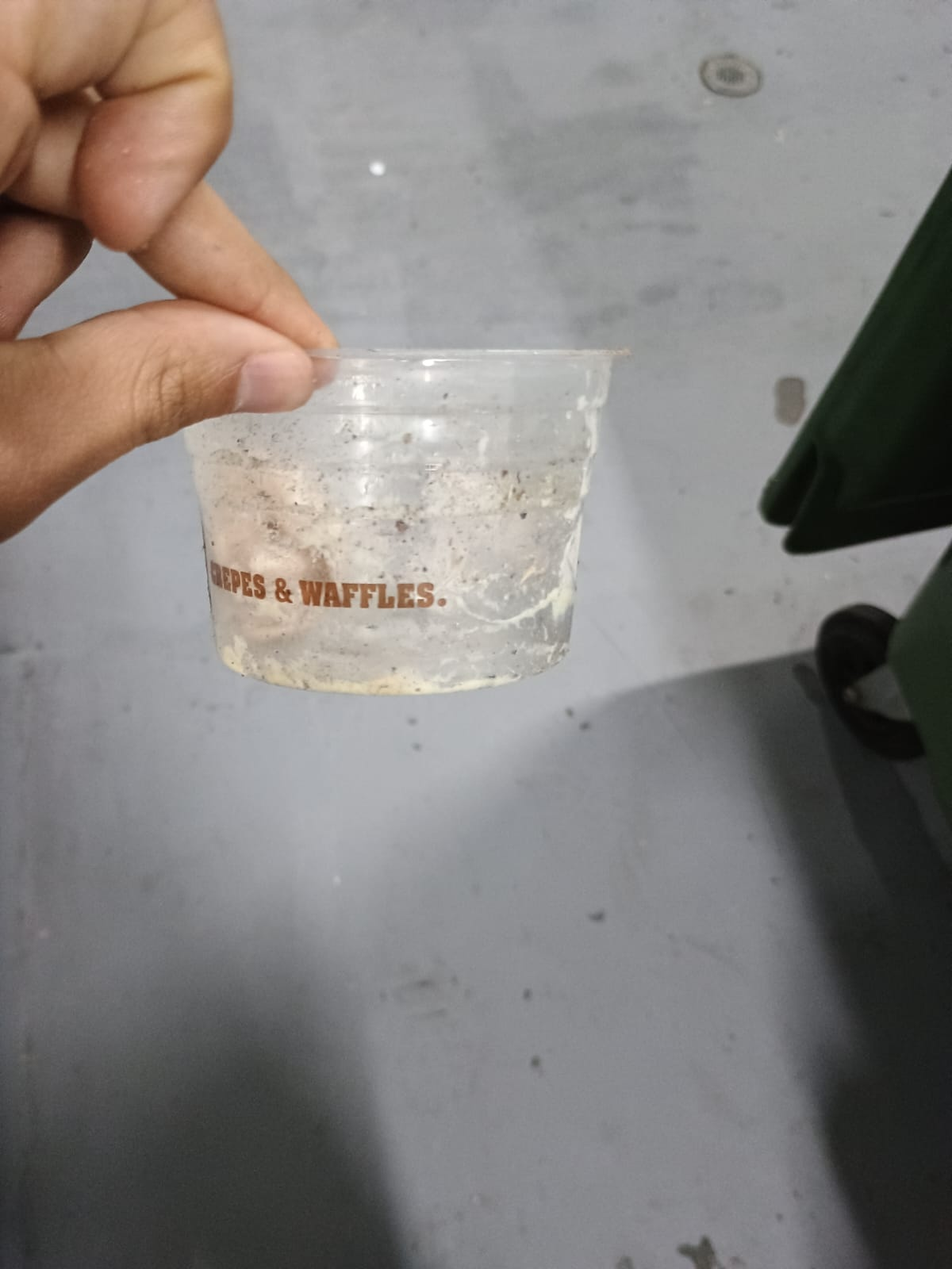Plastico: (179, 349, 618, 696)
